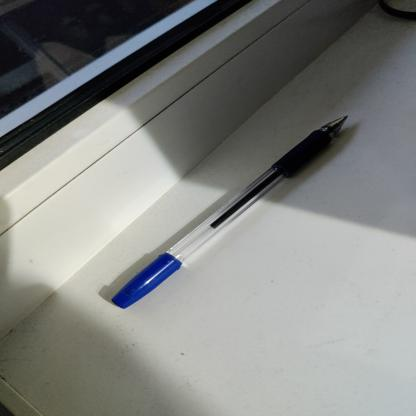Pen: (75, 109, 356, 324)
